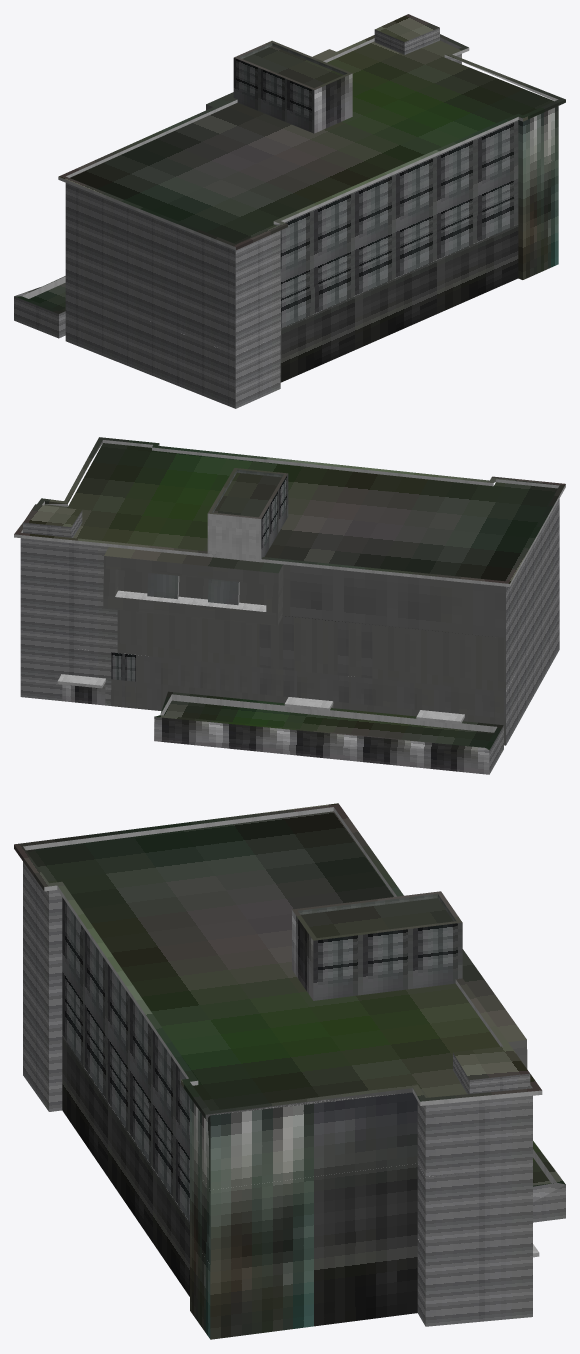
File: HPDPKS_lubanlu390hao.dae
The picture shows the model from 3 angles, top to bottom: view 1: azimuth 30°, elevation 25°; view 2: azimuth 150°, elevation 25°; view 3: azimuth 270°, elevation 25°; orthographic projection. The views are drawn at different scales.
Parts seen in each view (by area): view 1: HPDPKS_lubanlu390hao_louding, HPDPKS_lubanlu390hao_1F, HPDPKS_lubanlu390hao_2F, HPDPKS_lubanlu390hao_3F; view 2: HPDPKS_lubanlu390hao_louding, HPDPKS_lubanlu390hao_1F, HPDPKS_lubanlu390hao_3F, HPDPKS_lubanlu390hao_2F; view 3: HPDPKS_lubanlu390hao_louding, HPDPKS_lubanlu390hao_1F, HPDPKS_lubanlu390hao_2F, HPDPKS_lubanlu390hao_3F.
Boxes of the visible parts, x1,y1,x2,y2 form: HPDPKS_lubanlu390hao_louding: (58, 14, 565, 250); HPDPKS_lubanlu390hao_1F: (14, 210, 558, 408); HPDPKS_lubanlu390hao_2F: (65, 156, 558, 354); HPDPKS_lubanlu390hao_3F: (65, 49, 558, 300); HPDPKS_lubanlu390hao_louding: (14, 437, 565, 586); HPDPKS_lubanlu390hao_1F: (20, 596, 559, 774); HPDPKS_lubanlu390hao_3F: (20, 499, 559, 637); HPDPKS_lubanlu390hao_2F: (20, 543, 559, 691); HPDPKS_lubanlu390hao_louding: (14, 803, 542, 1118); HPDPKS_lubanlu390hao_1F: (23, 1001, 565, 1339); HPDPKS_lubanlu390hao_2F: (23, 926, 532, 1264); HPDPKS_lubanlu390hao_3F: (23, 862, 532, 1189).
Size of the model in its own units: 31.46 by 13.06 by 22.96.
18 materials, 18 textured.
